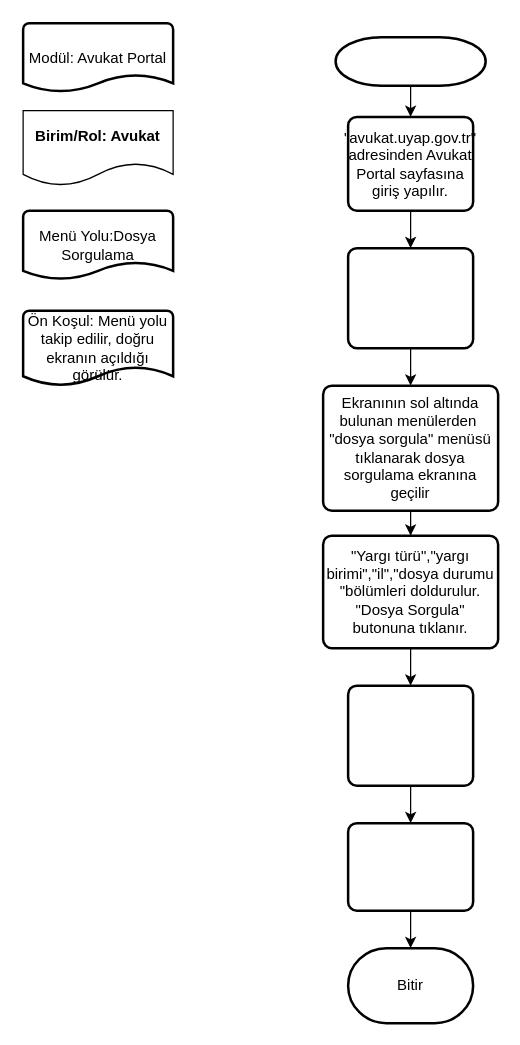
Some shapes in this 520 by 1045 pixel diagram are drawn without their labels. Each missing label, with the centre of its shape:
"Başla" belongs at (410,60).
"Kullanıcı adı girilerek Avukat Portal ekranına girilir." belongs at (410,297).
"Sorgulamak istediğimiz dosya ekranın altında görüntülenir." belongs at (410,735).
"Vekili olduğumuz dosyalar tabloda listelenir." belongs at (410,866).
